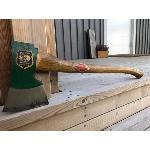Kapak: (2, 32, 146, 118)
